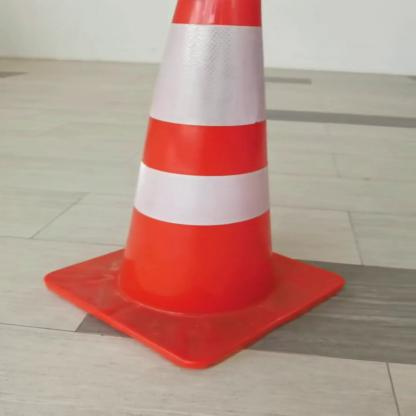cone: (13, 0, 357, 380)
